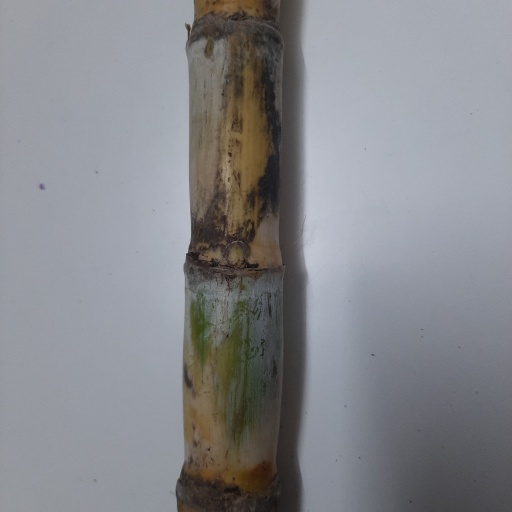Bud: (222, 240, 252, 270)
